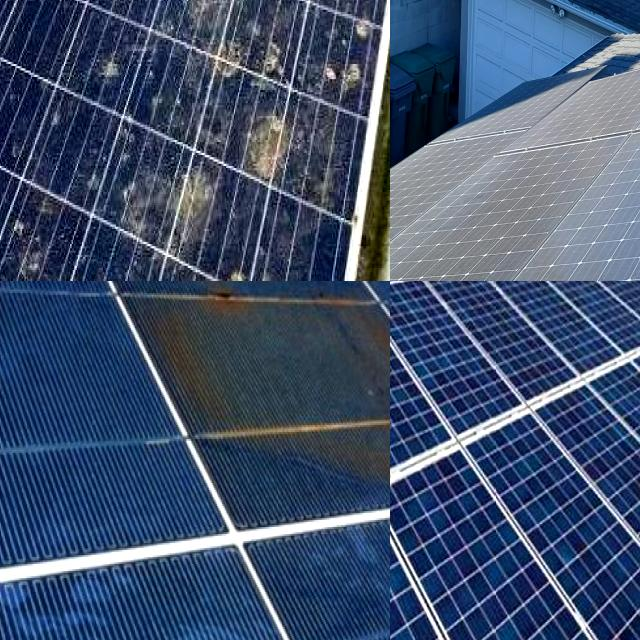bird: (131, 159, 237, 258), (306, 14, 382, 136), (201, 17, 286, 89), (107, 0, 189, 73), (88, 44, 152, 116), (253, 111, 301, 200), (156, 0, 221, 50), (0, 183, 37, 257), (305, 0, 364, 37), (250, 0, 290, 40), (0, 33, 19, 87), (351, 0, 390, 26), (84, 0, 120, 27), (92, 0, 125, 24), (214, 269, 255, 281), (0, 0, 12, 23)
crack: (390, 408, 635, 640), (453, 386, 640, 640), (527, 369, 640, 638), (390, 281, 529, 478), (390, 317, 498, 547), (420, 281, 585, 414), (390, 491, 527, 640), (470, 281, 640, 389), (390, 296, 484, 487), (516, 281, 640, 375), (553, 281, 640, 354)
dust: (468, 153, 564, 240), (573, 131, 640, 235), (563, 87, 640, 151), (431, 249, 538, 281), (478, 101, 548, 146), (564, 241, 640, 281), (409, 162, 456, 217), (390, 233, 422, 281)
shadow: (122, 281, 390, 503)
